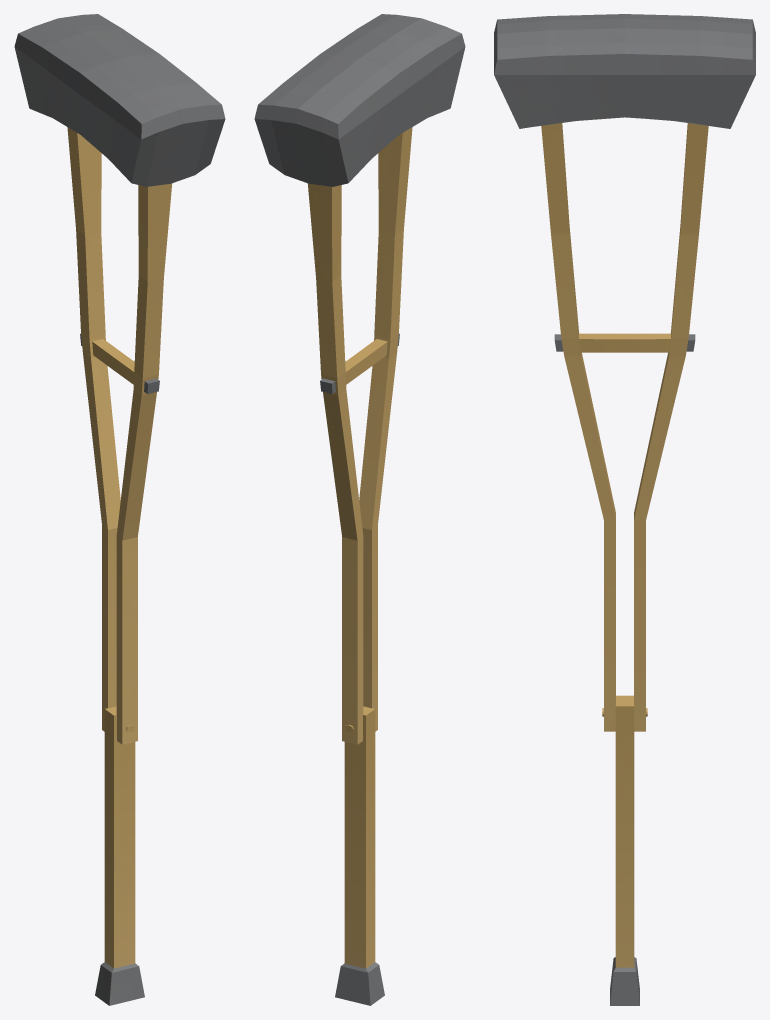
The model's file is crutch.glb.
3 views of the same model, side by side, from view 1: azimuth 30°, elevation 25°; view 2: azimuth 150°, elevation 25°; view 3: azimuth 270°, elevation 25° (orthographic). The views are drawn at different scales.
Visible parts, largest first — view 1: crutch; view 2: crutch; view 3: crutch.
Part boxes in pixels (x1=…): crutch: x1=14, y1=14, x2=225, y2=1005; crutch: x1=254, y1=14, x2=465, y2=1005; crutch: x1=494, y1=14, x2=755, y2=1005.
Size of the model in its own units: 0.0996 by 1.06 by 0.2599.
1 material, 1 textured.
